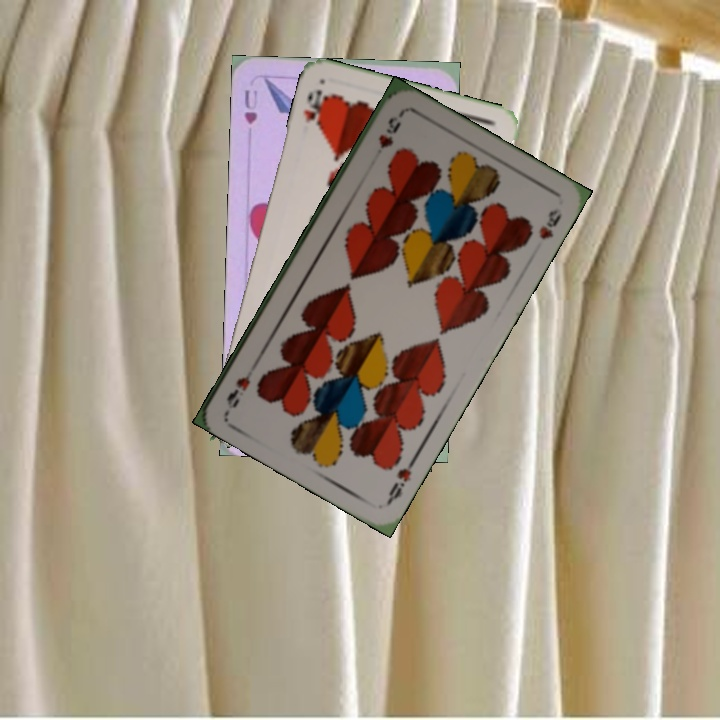H9: (383, 453, 420, 507), (374, 109, 406, 151)
HO: (299, 85, 329, 133)
HU: (240, 85, 260, 127)
